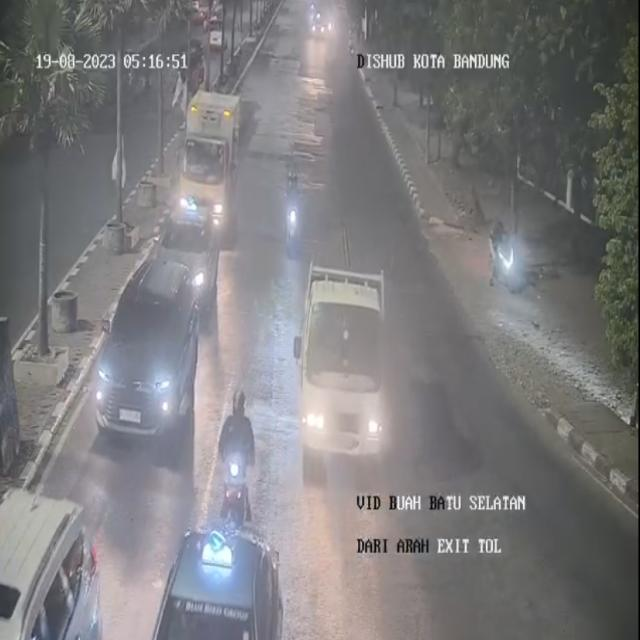cars: (90, 258, 201, 450), (294, 245, 386, 474), (0, 488, 102, 638), (153, 522, 279, 640), (176, 86, 240, 239), (158, 204, 213, 304), (310, 0, 337, 42)
motorcycle: (213, 388, 257, 509), (485, 212, 521, 298), (280, 168, 306, 254)
